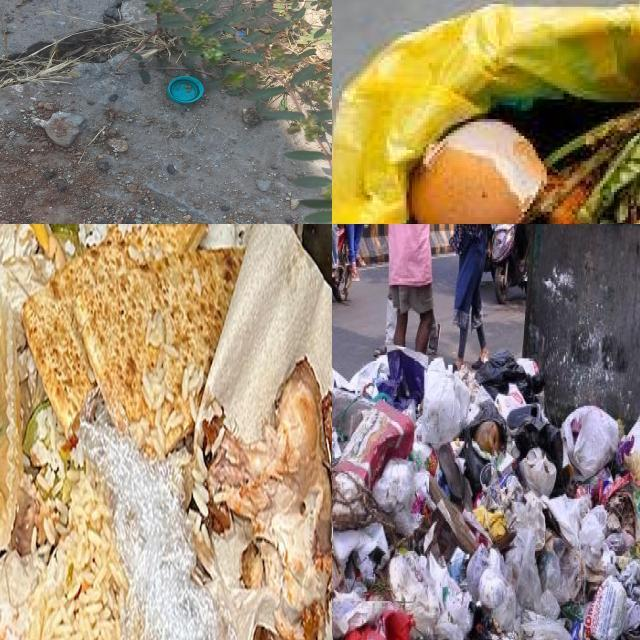Garbage: (0, 224, 332, 640), (332, 347, 640, 640), (403, 99, 640, 224)
Plastic: (167, 75, 205, 104)
Plastic_Bag: (389, 551, 472, 640), (335, 401, 414, 488), (422, 357, 471, 448), (561, 406, 619, 480), (476, 350, 544, 403), (515, 424, 565, 494), (586, 577, 640, 640), (376, 347, 425, 410), (505, 528, 542, 611), (478, 549, 516, 629), (519, 447, 556, 494), (579, 505, 606, 568), (521, 610, 571, 640), (621, 416, 640, 483), (538, 546, 561, 593), (382, 610, 415, 640), (468, 546, 485, 591), (332, 370, 358, 397), (632, 485, 640, 556), (571, 620, 586, 640)
